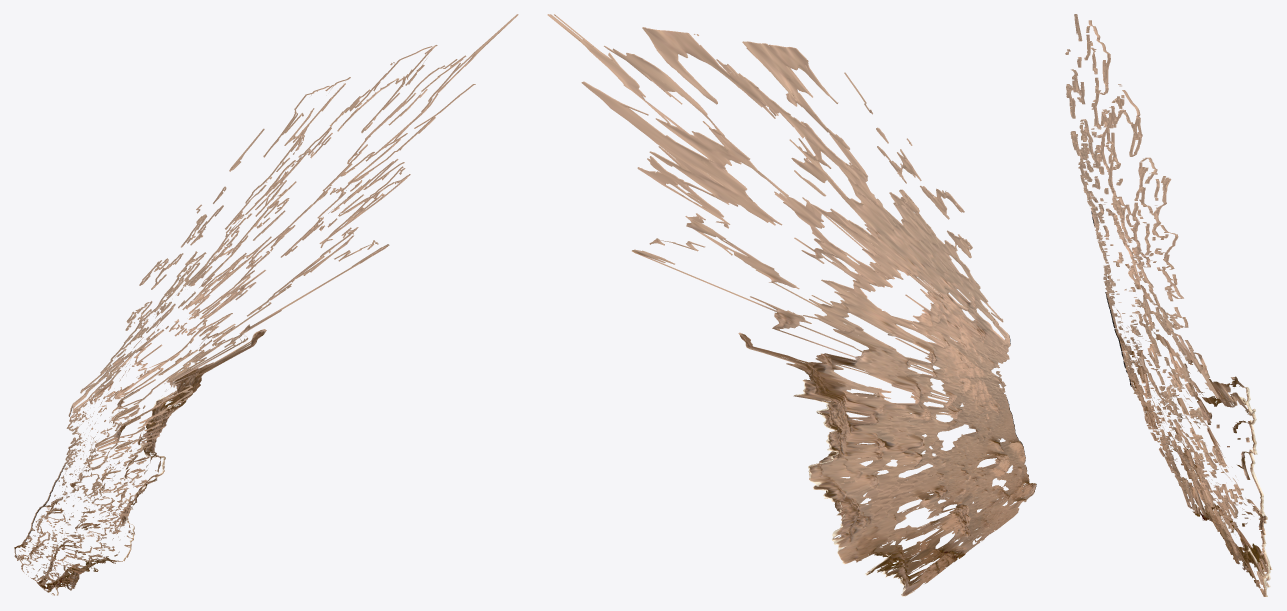
3 renders of one model, left to right at view 1: azimuth 30°, elevation 25°; view 2: azimuth 150°, elevation 25°; view 3: azimuth 270°, elevation 25°, orthographic. The views are drawn at different scales.
Size of the model in its own units: 25.78 by 24 by 6.62.
1 material, 1 textured.
